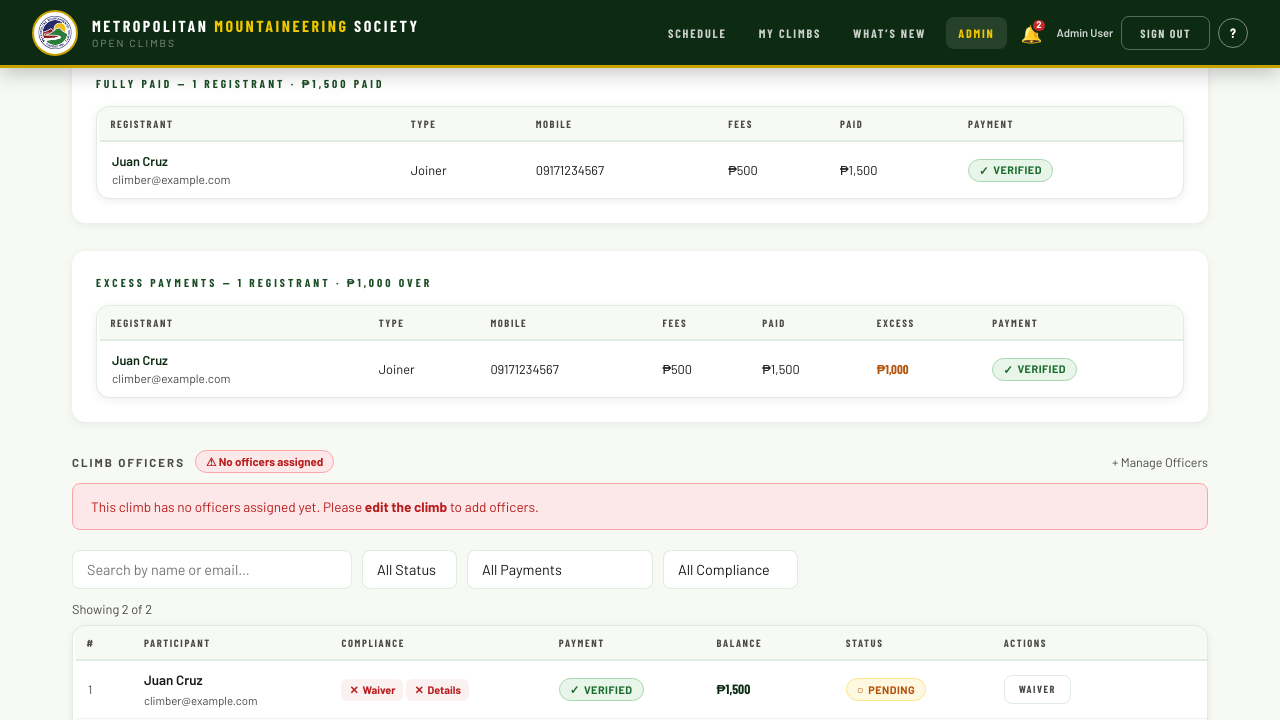
Admin ClimbDetail › Excess Payments card › lets the excess be split from the payer's payment history
(page scrolled)
Click the button "Juan Cruz" below "Excess Payments" at [140, 361], box 112,351 -> 168,370
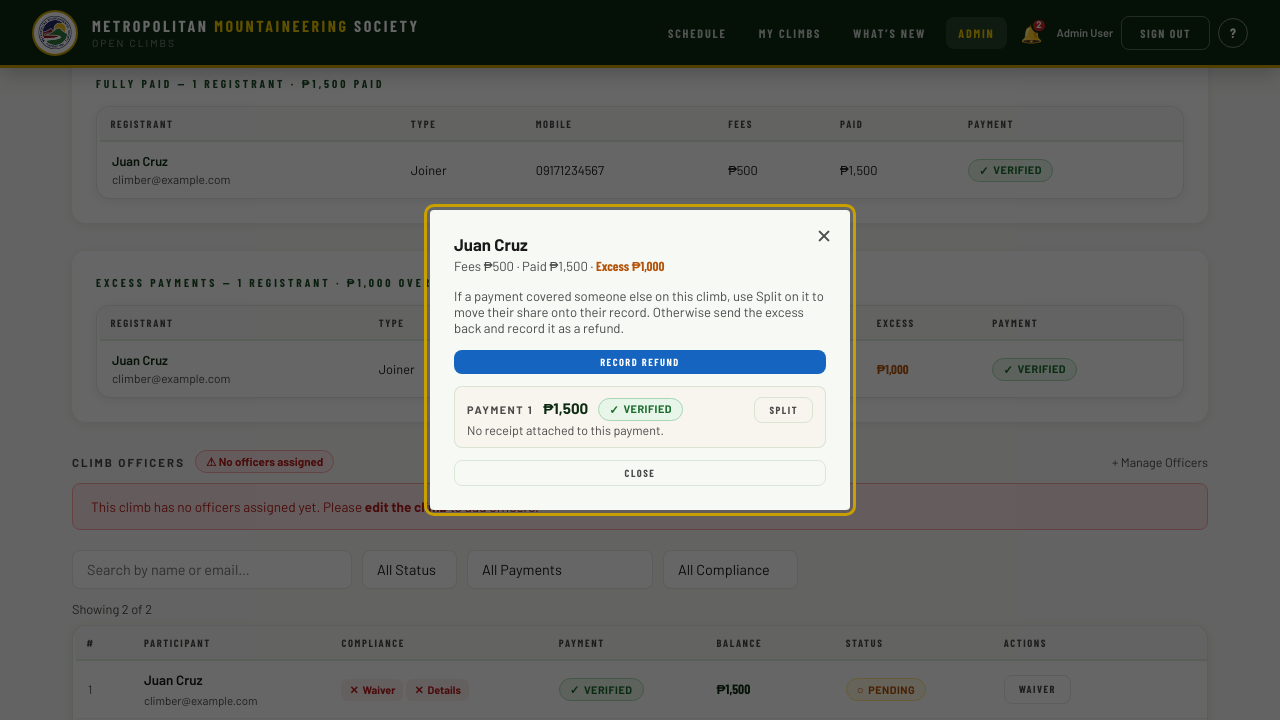
Now the text "Excess ₱1,000" is shown, box 596,258 -> 664,274
Click the button "Split" at [784, 410], box 754,397 -> 813,423
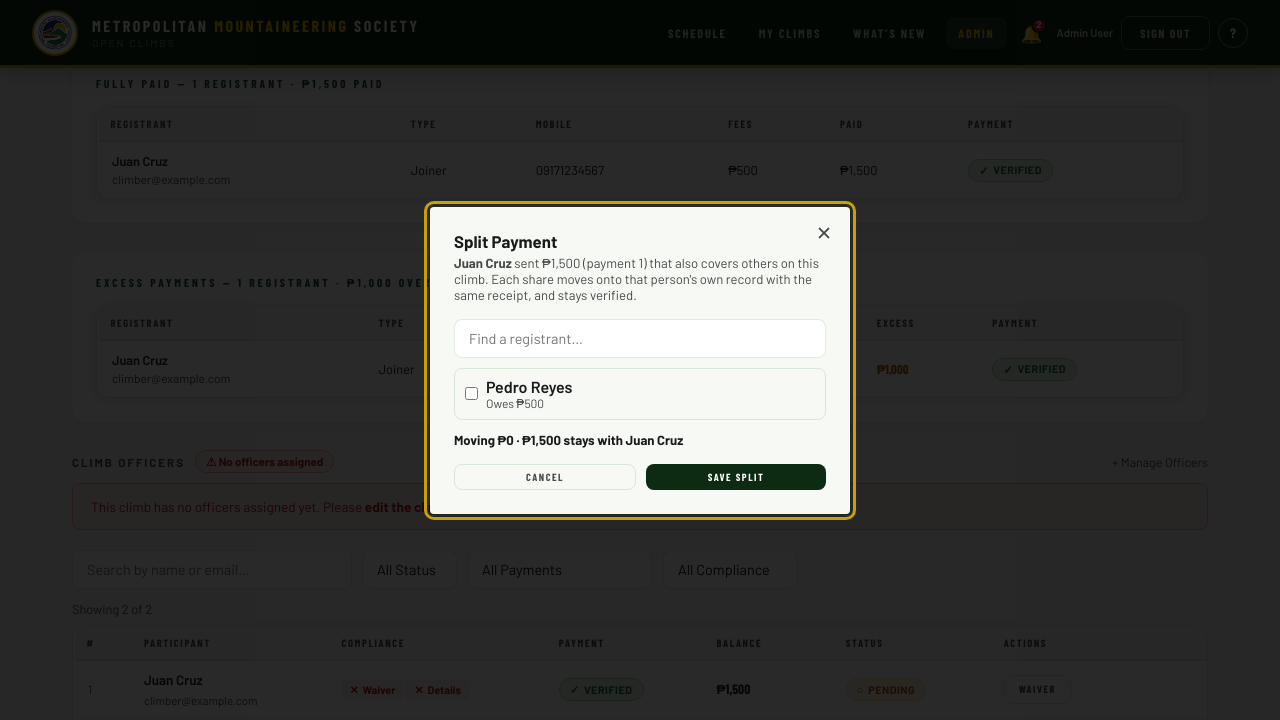
Now the dialog "Split Payment" is shown, box 430,206 -> 850,514
